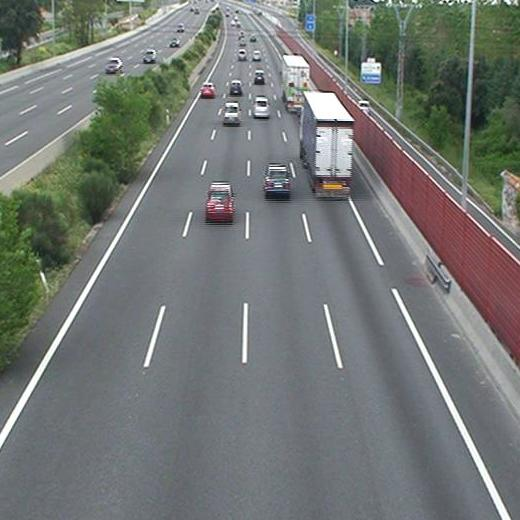car: (206, 184, 233, 219), (263, 166, 291, 193), (223, 102, 240, 124), (253, 97, 269, 117), (200, 83, 215, 96), (229, 81, 242, 94), (254, 70, 264, 82), (237, 50, 247, 61), (252, 50, 261, 61)
truck: (300, 92, 353, 198), (282, 55, 308, 111)
